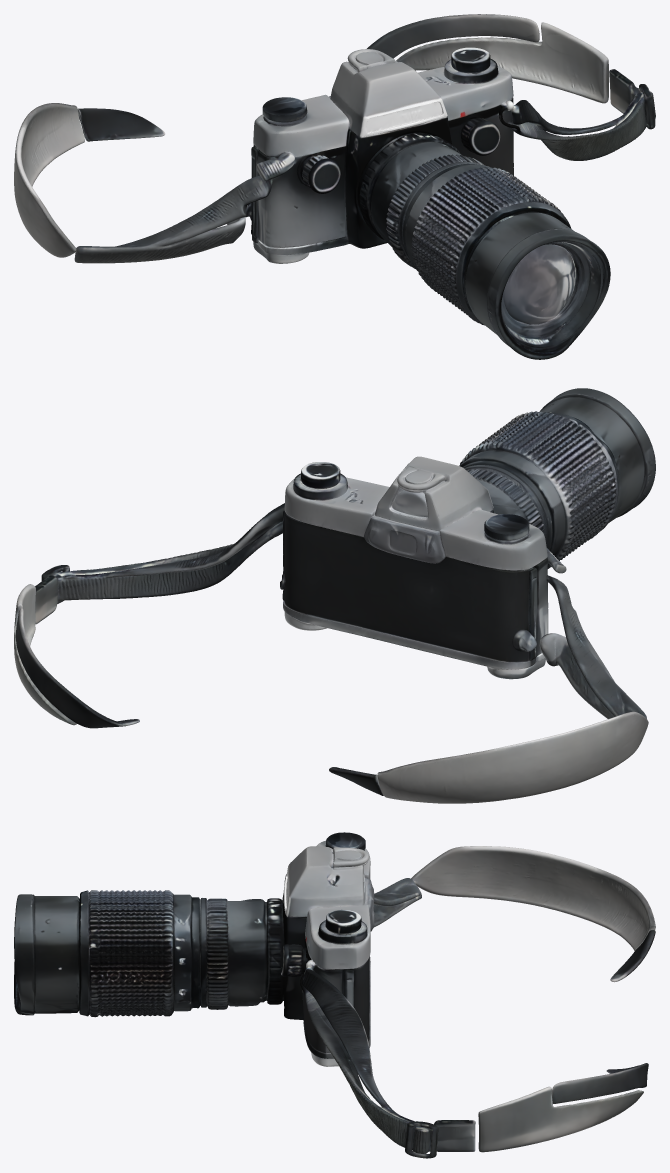
Rendered from base_basic_pbr.glb.
3 views of the same model, one above another, from view 1: azimuth 30°, elevation 25°; view 2: azimuth 150°, elevation 25°; view 3: azimuth 270°, elevation 25° (orthographic). The views are drawn at different scales.
Visible parts, largest first — view 1: model; view 2: model; view 3: model.
Boxes of the visible parts, bbox=[...] form: model: bbox=[14, 14, 655, 359]; model: bbox=[14, 388, 655, 803]; model: bbox=[14, 832, 655, 1158].
Size of the model in its own units: 1.85 by 0.5163 by 1.88.
1 material, 1 textured.
